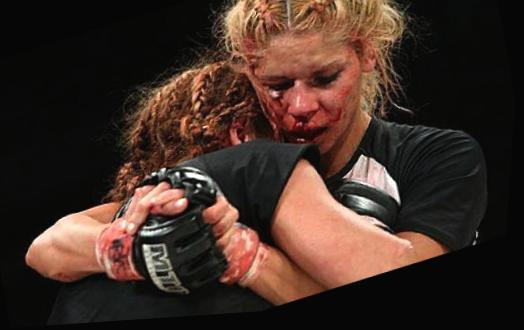Fire: (258, 77, 355, 168), (332, 155, 364, 183)
